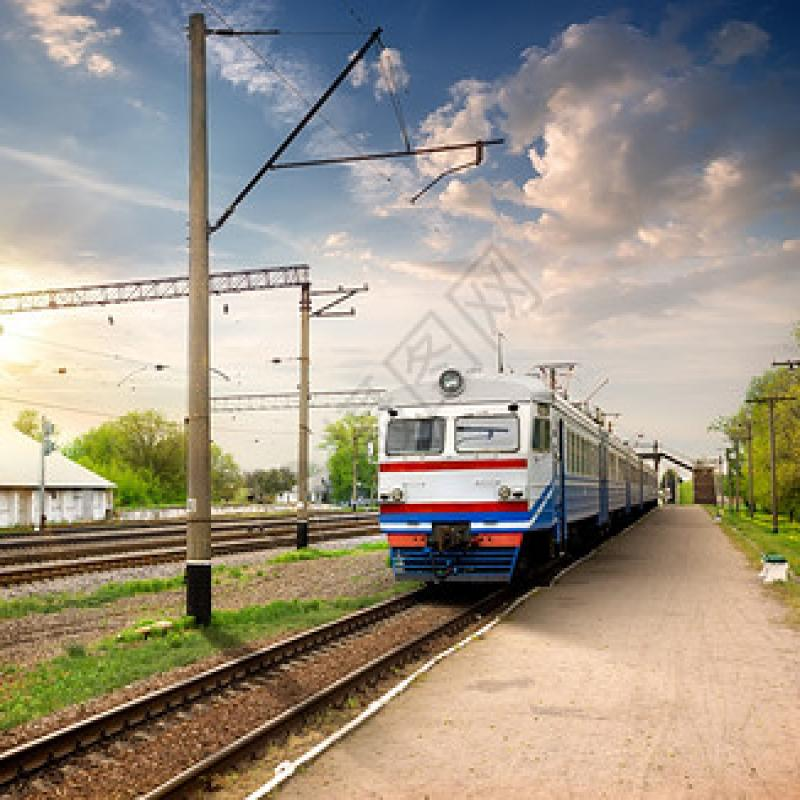train: (372, 364, 664, 609)
